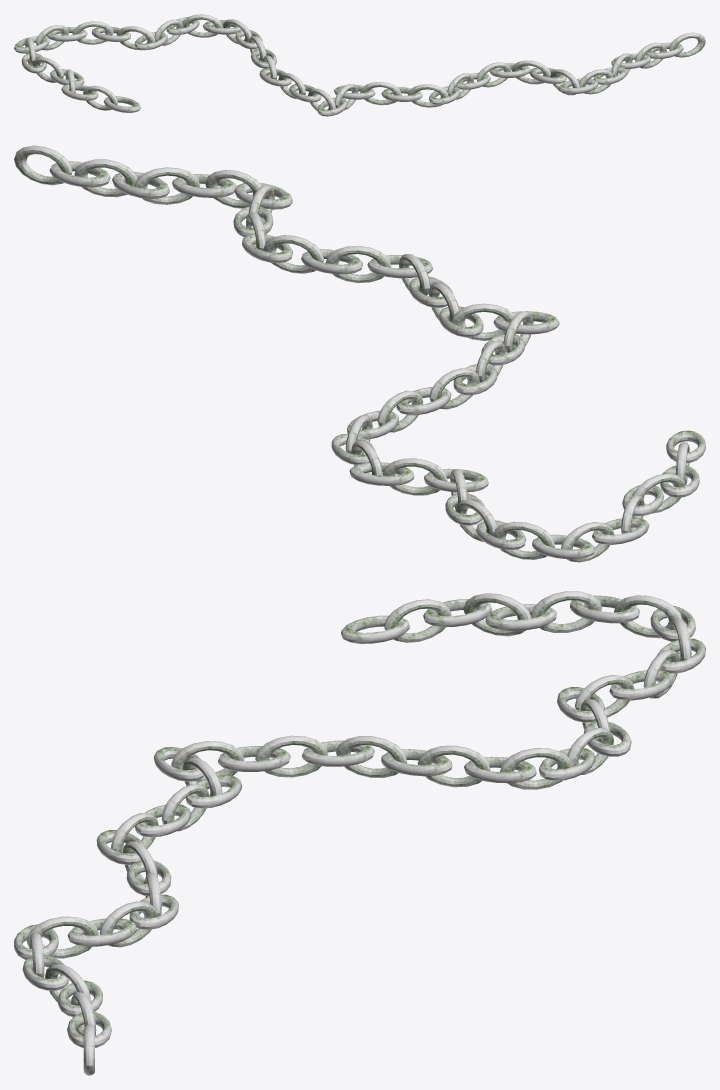
Rendered from corrente_balanca_TEXTURIZADA.fbx.
The picture shows the model from 3 angles, top to bottom: view 1: azimuth 30°, elevation 25°; view 2: azimuth 150°, elevation 25°; view 3: azimuth 270°, elevation 25°; orthographic projection. The views are drawn at different scales.
Visible parts, largest first — view 1: corrente; view 2: corrente; view 3: corrente.
Boxes of the visible parts, <box> form: corrente: <box>14,14,705,116</box>; corrente: <box>14,145,705,562</box>; corrente: <box>14,591,705,1075</box>.
Bounding box in the file's own units: 90.37 × 3.68 × 56.6.
Materials: 1 (1 with a texture image).
